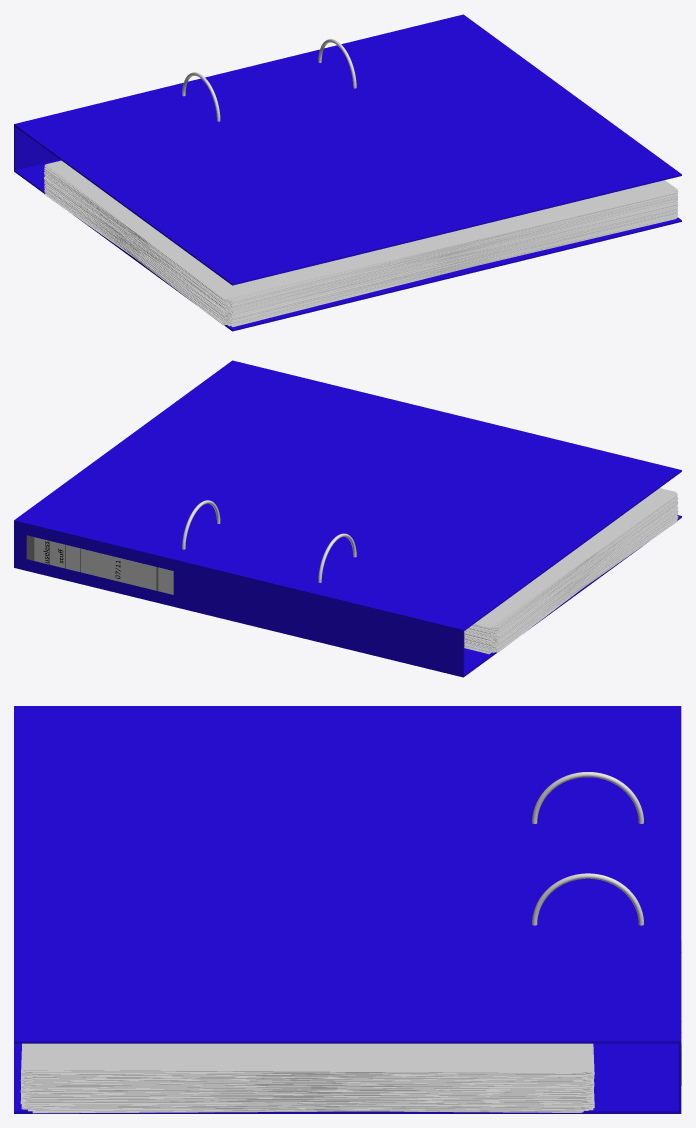
The model's file is binderblue.fbx.
3 renders of one model, top to bottom at view 1: azimuth 30°, elevation 25°; view 2: azimuth 150°, elevation 25°; view 3: azimuth 270°, elevation 25°, orthographic. The views are drawn at different scales.
Parts seen in each view (by area): view 1: Cube.003, Cube.152, Cube.001, Cube.002, Cube.054, Cube.148, Cube.151, Cube.064, Cube.006, Cube.086, Cube.099, Cube.123 (+7 smaller); view 2: Cube.003, Cube.002, Cube.152, Cube.160, Cube.001; view 3: Cube.003, Cube.152, Cube.001, Torus, Torus.001, Cube.148, Cube.114, Cube.050, Cube.087.
Part boxes in pixels (left/top/right/bottom): Cube.003: left=14, top=14, right=681, bottom=285; Cube.152: left=45, top=160, right=676, bottom=299; Cube.001: left=14, top=159, right=681, bottom=331; Cube.002: left=14, top=126, right=59, bottom=170; Cube.054: left=44, top=185, right=499, bottom=318; Cube.148: left=45, top=168, right=677, bottom=301; Cube.151: left=45, top=166, right=677, bottom=300; Cube.064: left=45, top=183, right=473, bottom=316; Cube.006: left=44, top=193, right=456, bottom=326; Cube.086: left=136, top=203, right=676, bottom=311; Cube.099: left=44, top=176, right=484, bottom=310; Cube.123: left=44, top=173, right=677, bottom=306; Cube.003: left=14, top=360, right=681, bottom=631; Cube.002: left=14, top=522, right=464, bottom=675; Cube.152: left=474, top=490, right=677, bottom=628; Cube.160: left=81, top=548, right=156, bottom=590; Cube.001: left=14, top=515, right=681, bottom=677; Cube.003: left=14, top=706, right=681, bottom=1043; Cube.152: left=22, top=1043, right=583, bottom=1073; Cube.001: left=14, top=1043, right=681, bottom=1113; Torus: left=532, top=772, right=643, bottom=823; Torus.001: left=532, top=873, right=643, bottom=925; Cube.148: left=32, top=1043, right=592, bottom=1074; Cube.114: left=25, top=1080, right=585, bottom=1082; Cube.050: left=24, top=1094, right=584, bottom=1100; Cube.087: left=33, top=1079, right=594, bottom=1090.
Bounding box in the file's own units: 30.11 × 5.1 × 25.02.
